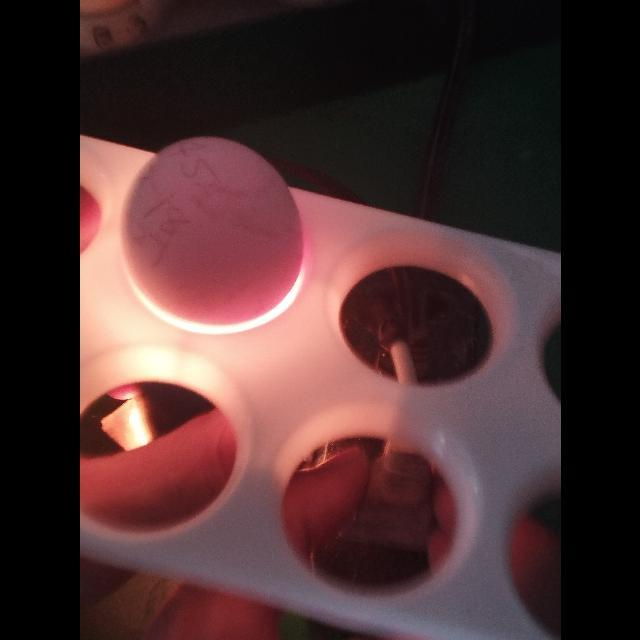B - Fair: (118, 131, 310, 333)
